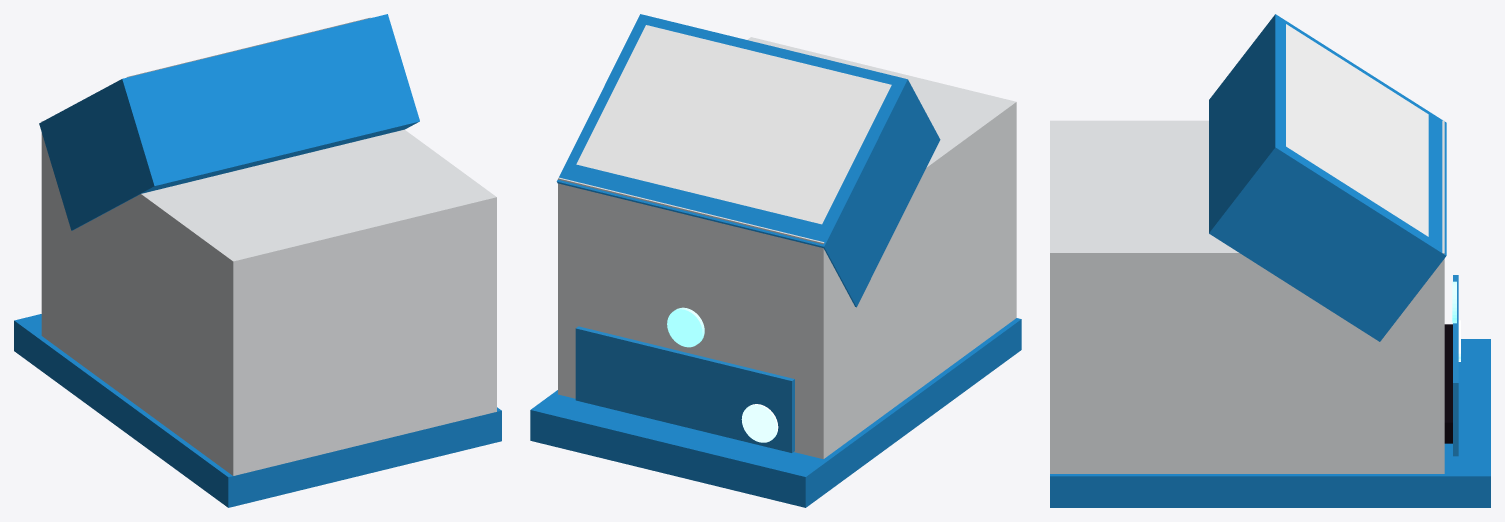
Rendered from Team5_qPCR_Instrument.fbx.
The picture shows the model from 3 angles, left to right: view 1: azimuth 30°, elevation 25°; view 2: azimuth 150°, elevation 25°; view 3: azimuth 270°, elevation 25°; orthographic projection. The views are drawn at different scales.
Visible parts, largest first — view 1: PCR_Cycler_Body, PCR_Screen_Bezel, PCR_Base; view 2: PCR_Cycler_Body, PCR_TouchScreen_UI_Quad, PCR_Screen_Bezel, PCR_Base, PCR_Front_Door, PCR_Power_Button, open door button; view 3: PCR_Cycler_Body, PCR_Screen_Bezel, PCR_Base, PCR_TouchScreen_UI_Quad, Plate tray, PCR_Front_Door.
Boxes of the visible parts, x1,y1,x2,y2 form: PCR_Cycler_Body: [41, 120, 496, 475]; PCR_Screen_Bezel: [39, 14, 419, 230]; PCR_Base: [14, 314, 501, 507]; PCR_Cycler_Body: [558, 37, 1016, 459]; PCR_TouchScreen_UI_Quad: [576, 25, 891, 224]; PCR_Screen_Bezel: [556, 14, 940, 307]; PCR_Base: [530, 318, 1021, 507]; PCR_Front_Door: [575, 326, 794, 452]; PCR_Power_Button: [667, 307, 704, 347]; open door button: [741, 404, 778, 442]; PCR_Cycler_Body: [1050, 120, 1444, 473]; PCR_Screen_Bezel: [1209, 14, 1446, 341]; PCR_Base: [1050, 339, 1490, 507]; PCR_TouchScreen_UI_Quad: [1286, 24, 1428, 236]; Plate tray: [1444, 324, 1452, 443]; PCR_Front_Door: [1453, 275, 1458, 456].
Bounding box in the file's own units: 2.8 × 3.41 × 3.8.
